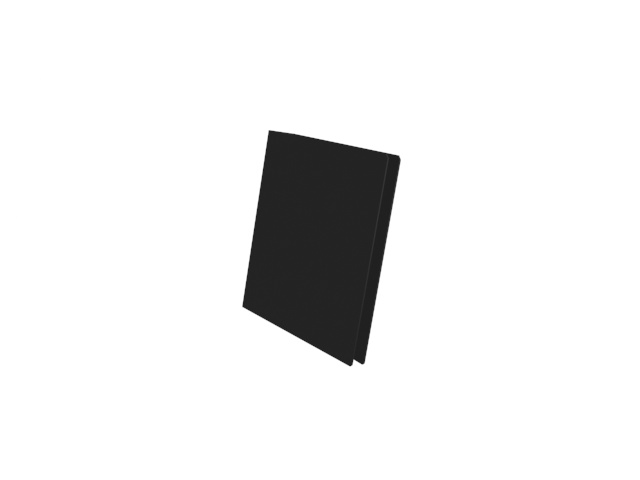ring_binder: (241, 129, 408, 368)
